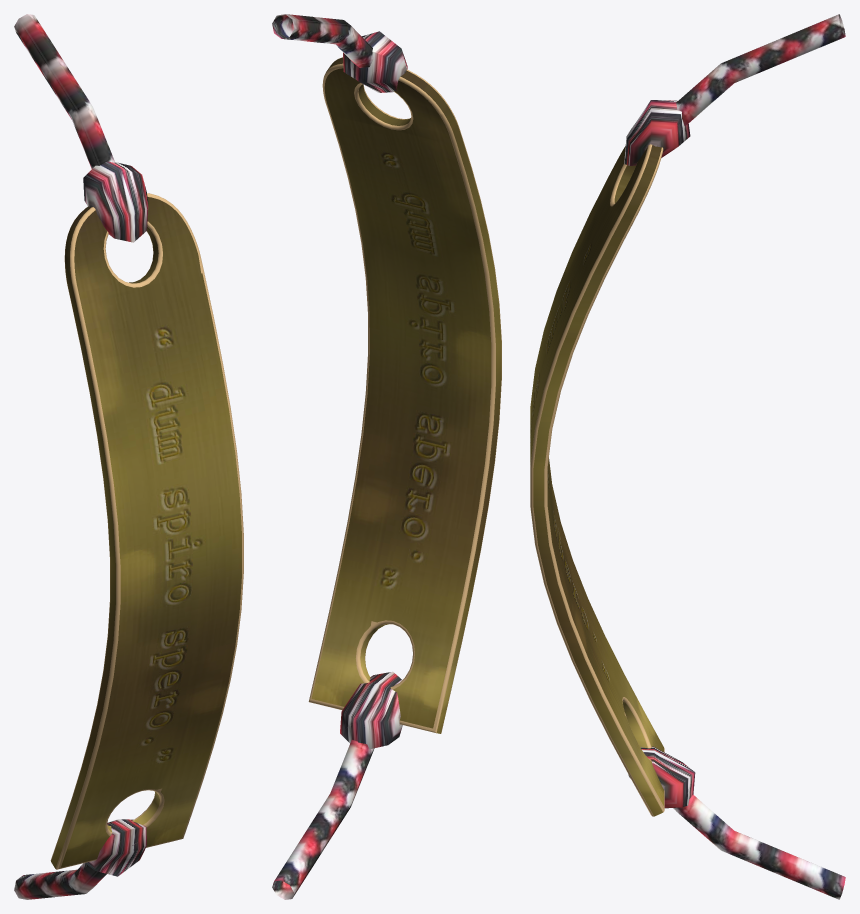
Rendered from DumSpiroSperoBrassColor.obj.
3 renders of one model, left to right at view 1: azimuth 30°, elevation 25°; view 2: azimuth 150°, elevation 25°; view 3: azimuth 270°, elevation 25°, orthographic.
Visible parts, largest first — view 1: DumSpiroSperoBrassColor, coloredBand, Knot1, Knot6, coloredBand1; view 2: DumSpiroSperoBrassColor, coloredBand1, Knot6, coloredBand, Knot1; view 3: DumSpiroSperoBrassColor, coloredBand, coloredBand1, Knot1, Knot6.
Boxes of the visible parts, x1,y1,x2,y2 form: DumSpiroSperoBrassColor: [50, 193, 243, 869]; coloredBand: [14, 14, 115, 168]; Knot1: [83, 161, 148, 242]; Knot6: [85, 819, 146, 876]; coloredBand1: [14, 843, 135, 899]; DumSpiroSperoBrassColor: [308, 57, 501, 733]; coloredBand1: [272, 740, 374, 899]; Knot6: [340, 671, 402, 749]; coloredBand: [272, 14, 373, 67]; Knot1: [343, 31, 407, 92]; DumSpiroSperoBrassColor: [530, 144, 664, 816]; coloredBand: [676, 14, 845, 125]; coloredBand1: [673, 794, 845, 899]; Knot1: [624, 100, 690, 165]; Knot6: [628, 746, 695, 808].
Size of the model in its own units: 20.37 by 135 by 43.67.
Materials: 6 (5 with a texture image).
